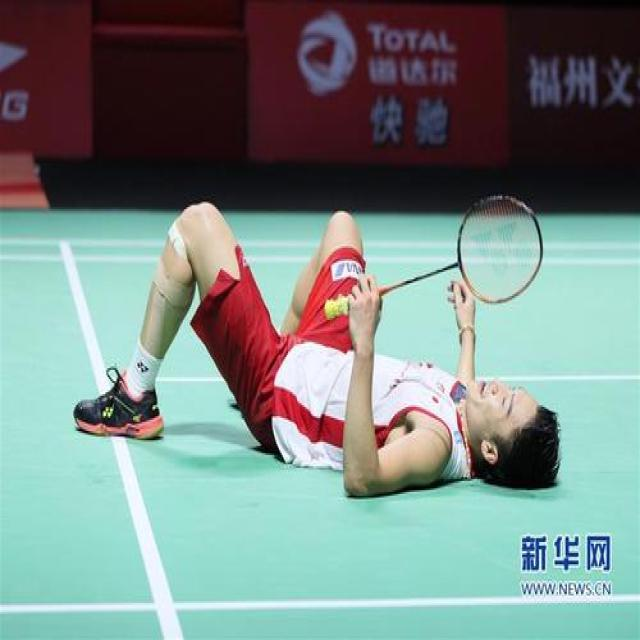down: (59, 182, 580, 510)
